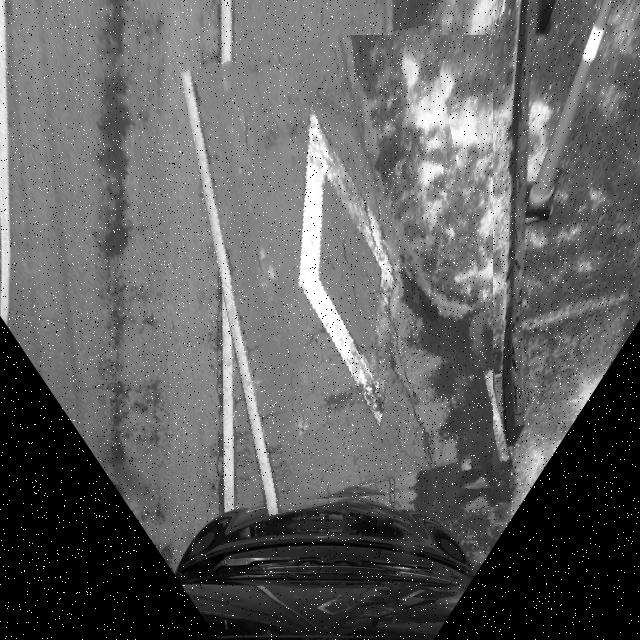diamond: (201, 35, 493, 507)
